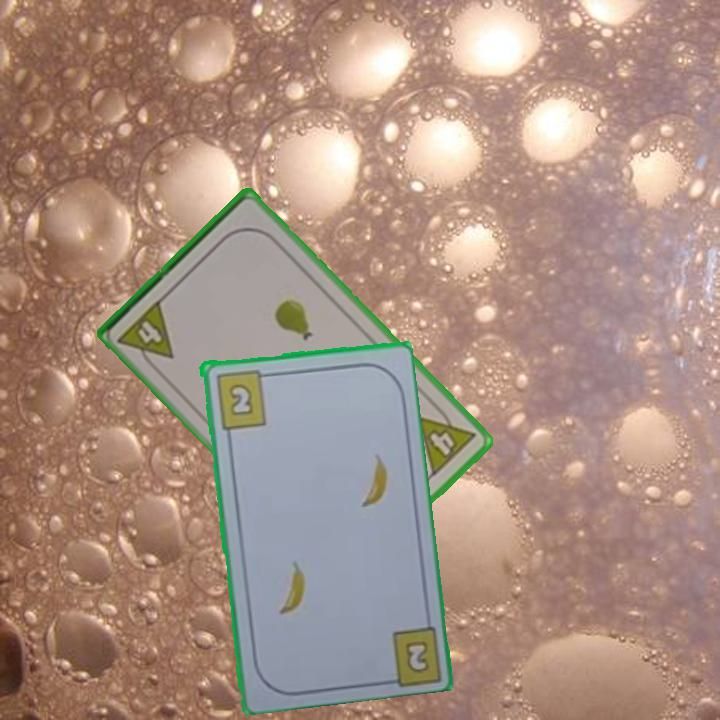2b: (212, 366, 273, 432), (404, 640, 429, 673)
4p: (414, 399, 479, 480), (114, 295, 177, 374)
